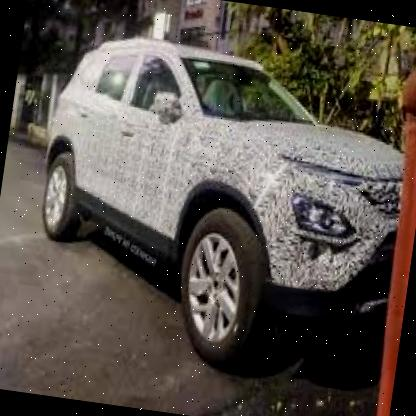car: (11, 19, 416, 390)
